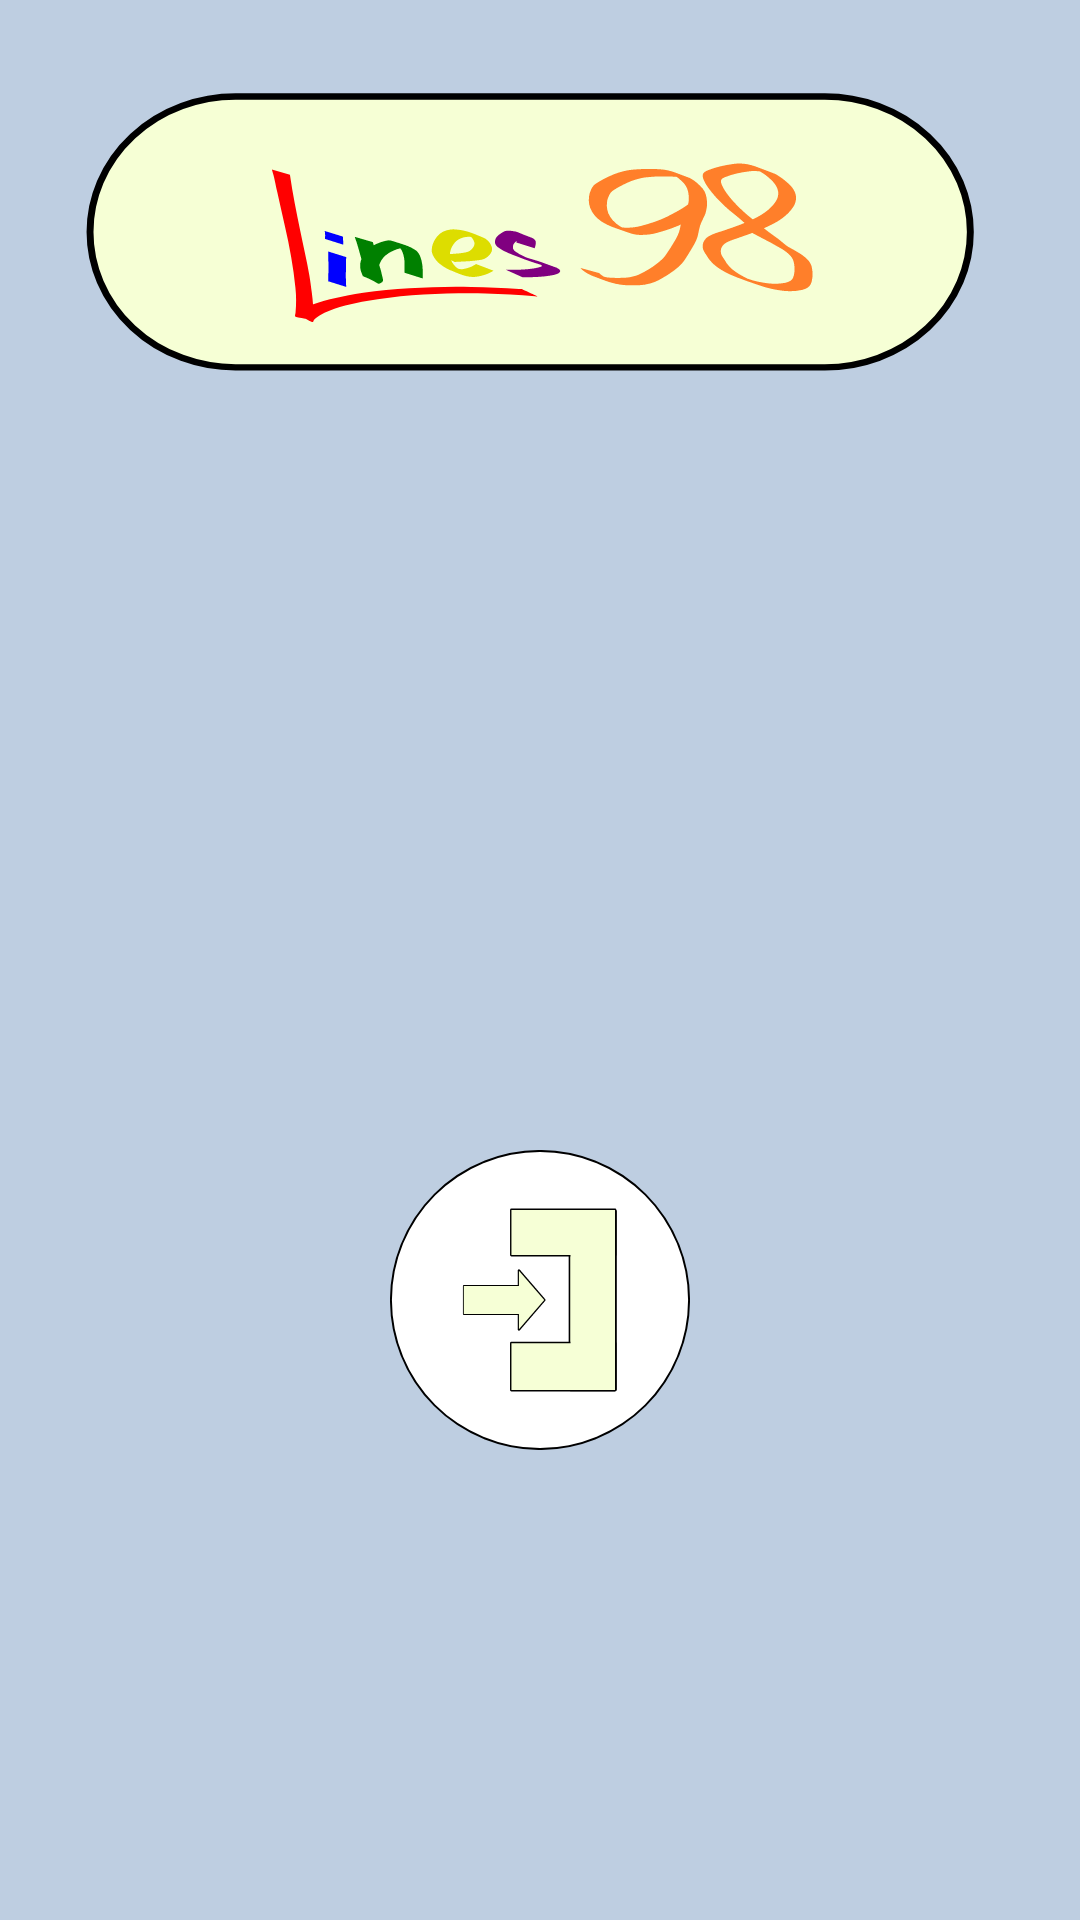

Screen size 1080w x 1920h. Icon name, then its center in pixels as [x,y]:
exit: [540,1300]
